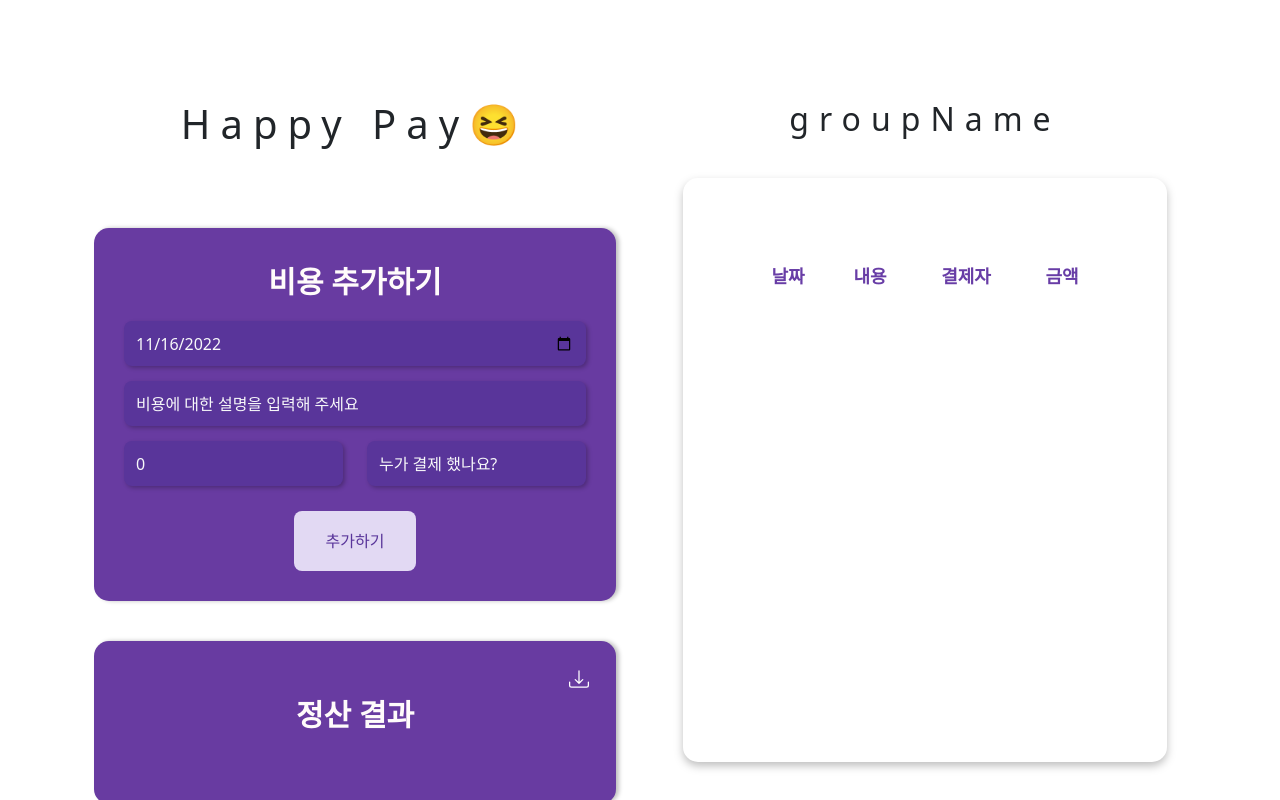
Test case: 비용 정산 메인페이지 › 비용 리스트 컴포넌트 › 새로운 비용이 입력 되었을 때 › 날짜, 내용, 결제자, 금액 데이터가 정산 리스트에 추가 된다
Type "2022-11-14" into the date field with placeholder "결제한 날짜를 선택해 주세요" at (355, 344), box [124,321,586,366]
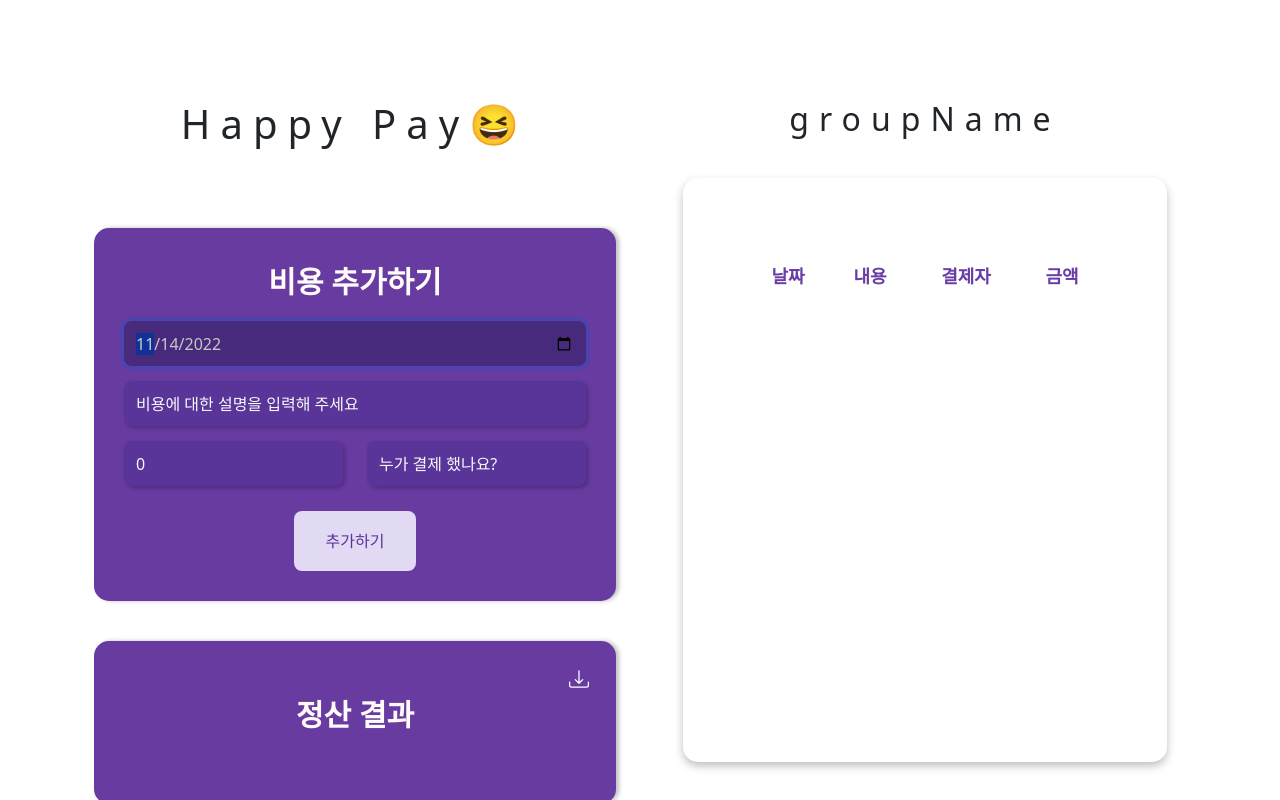
Type "장보기" into the field with placeholder "비용에 대한 설명을 입력해 주세요" at (355, 404), box [124,381,586,426]
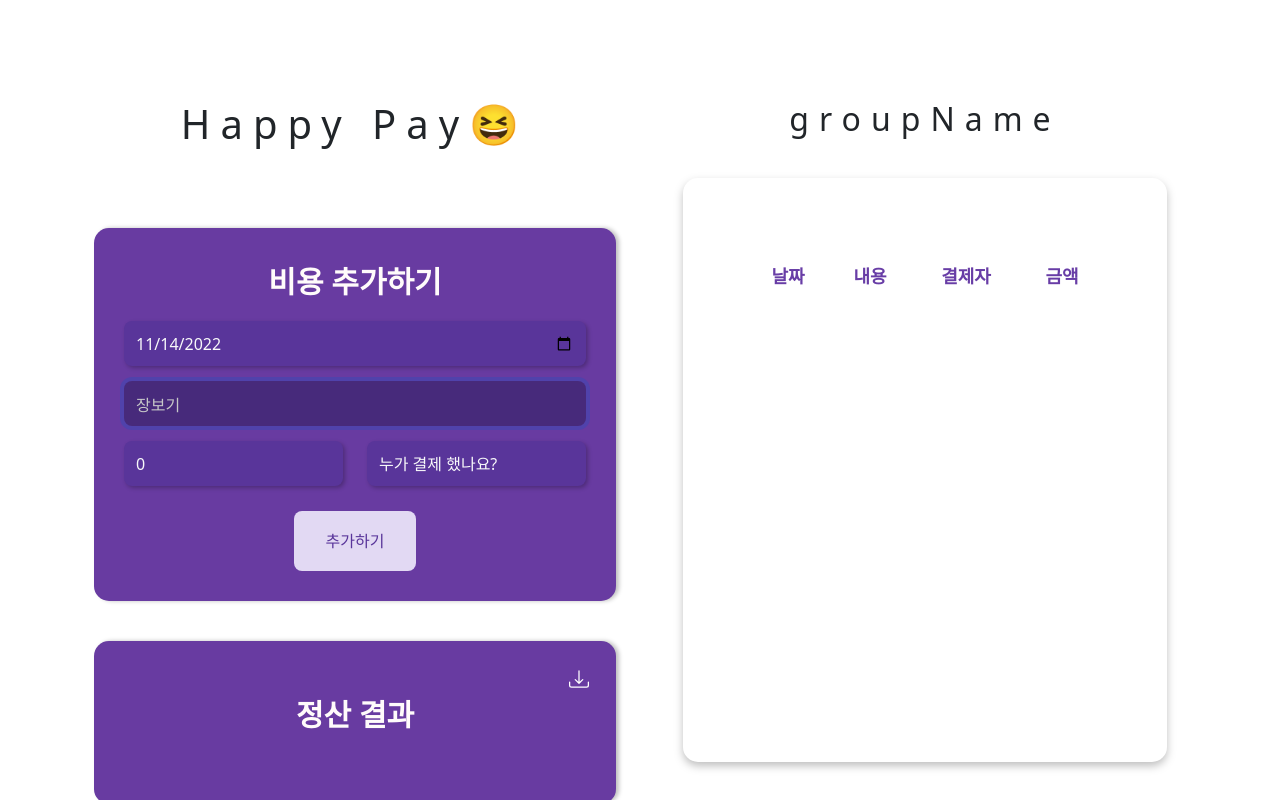
Type "30000" into the number field with placeholder "비용은 얼마인가요?" at (234, 464), box [124,441,343,486]
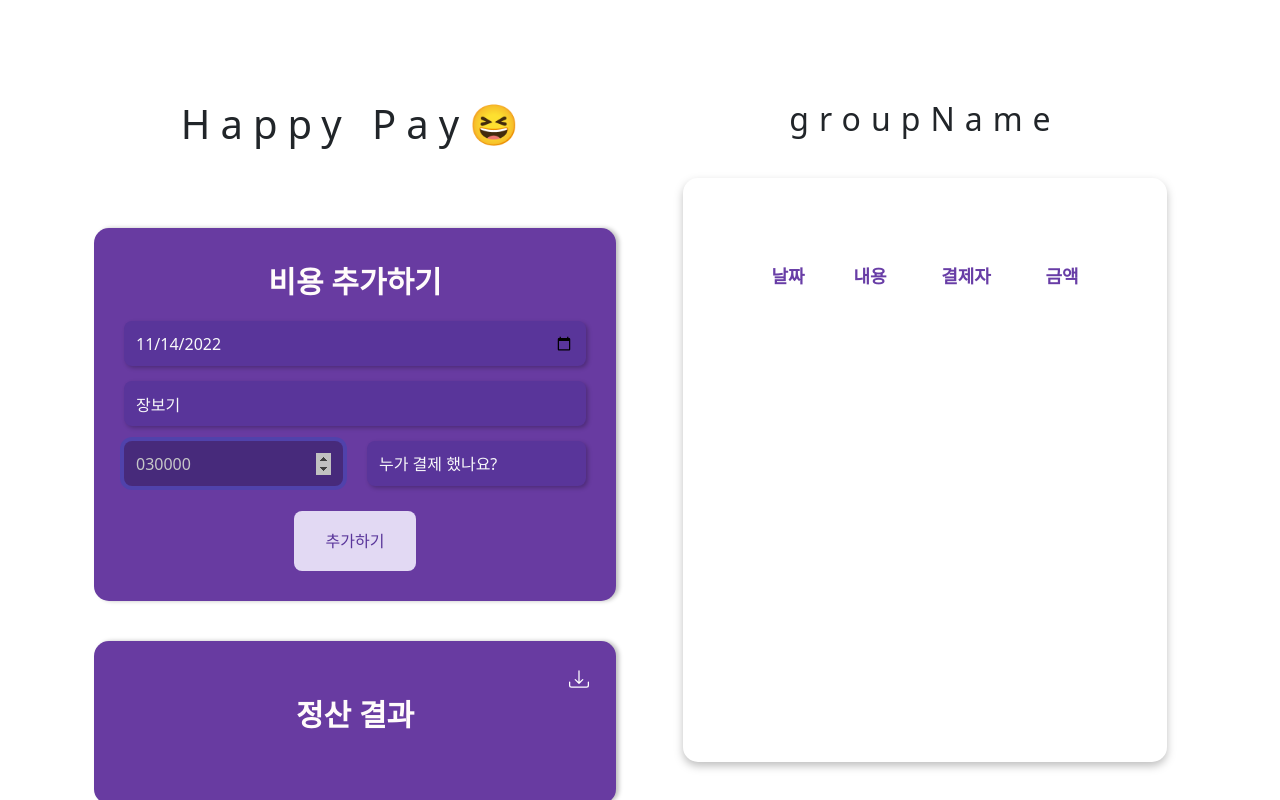
Select "영수" in the dropdown showing "누가 결제" at (476, 464), box [367,441,586,486]
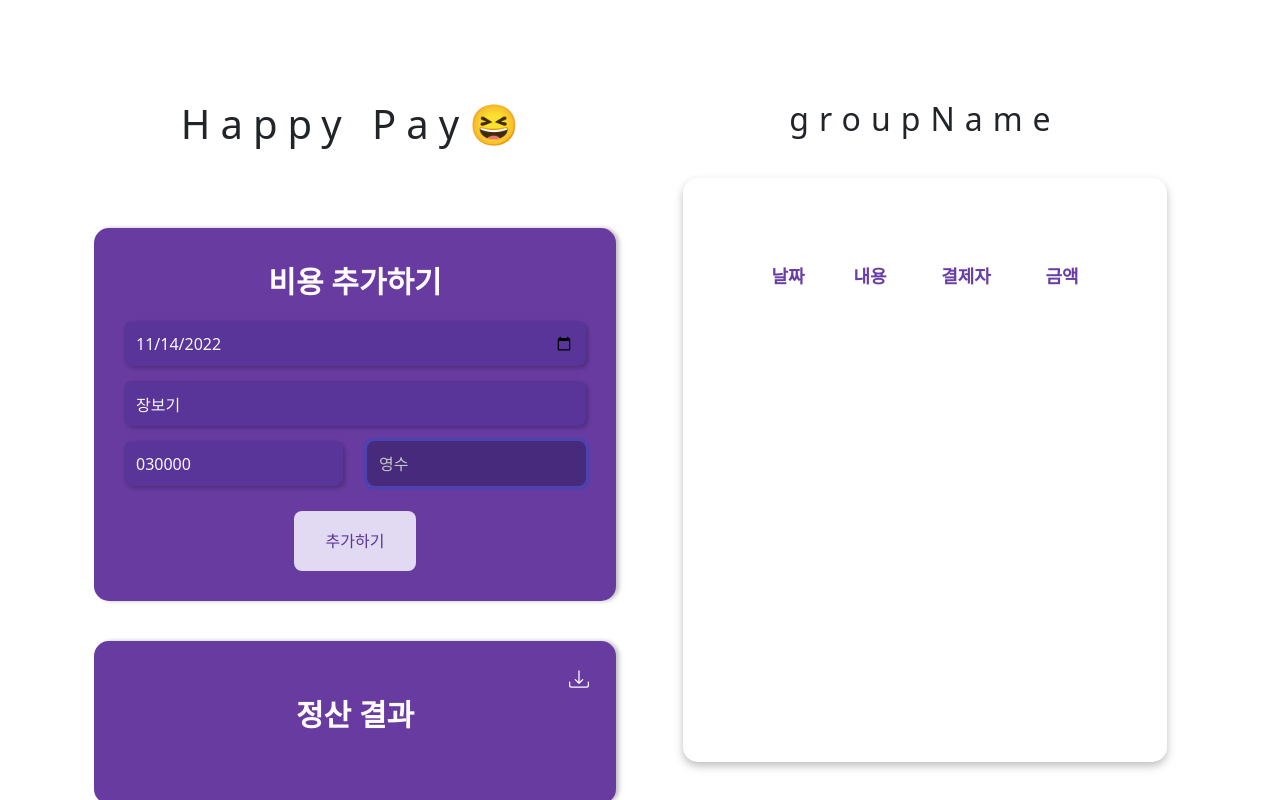
Click the button "추가하기" at (355, 541), box [294,511,416,571]
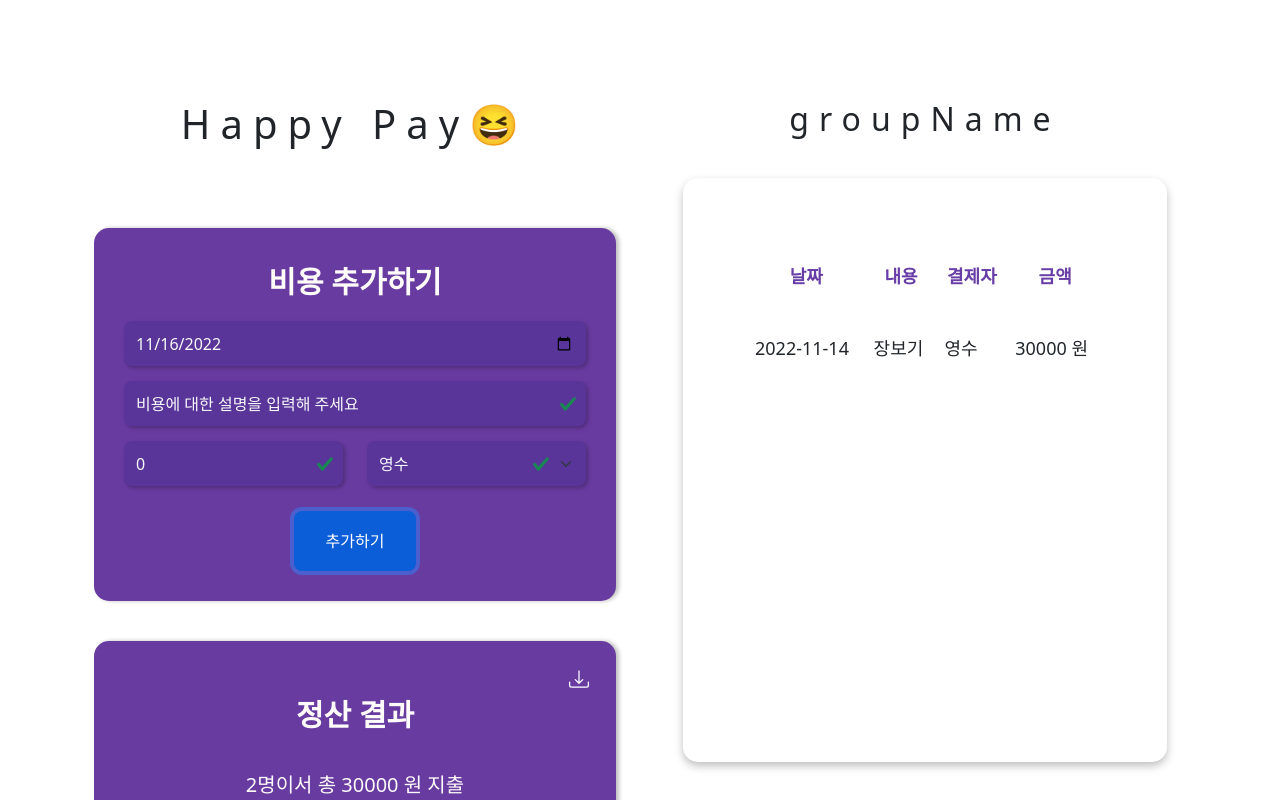
Check: the text "2022-11-14" is shown, box [747,311,866,386]
Check: the text "장보기" is shown, box [866,311,936,386]
Check: the text "30000 원" is shown, box [1007,311,1103,386]
